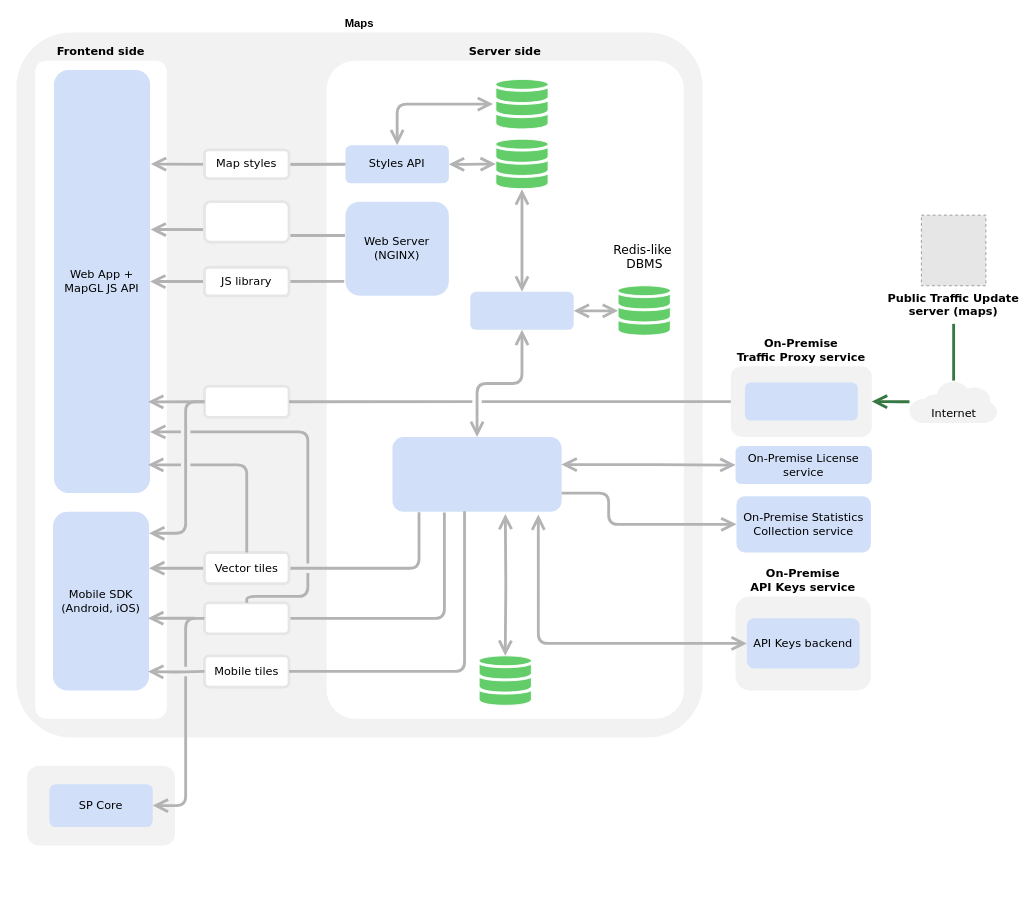
Image size: 1035x897. Some labels were removed from this diagram. Grey dashed boxes stand in for pictures. Here are the shapes that lost their labels. From the top down, the box of each, then its label:
(495, 78, 548, 129): DBMS
(495, 138, 548, 189): Object storage
(203, 200, 290, 243): Static files (icons, fonts)
(470, 291, 573, 329): Tilegen API
(203, 384, 290, 418): Real-time traffic data
(744, 382, 857, 420): NGINX reverse proxy
(392, 437, 561, 511): Tiles API
(203, 601, 290, 635): Raster tiles
(478, 655, 531, 706): NoSQL DBMS
(27, 765, 175, 845): On-Premise GIS Platform
